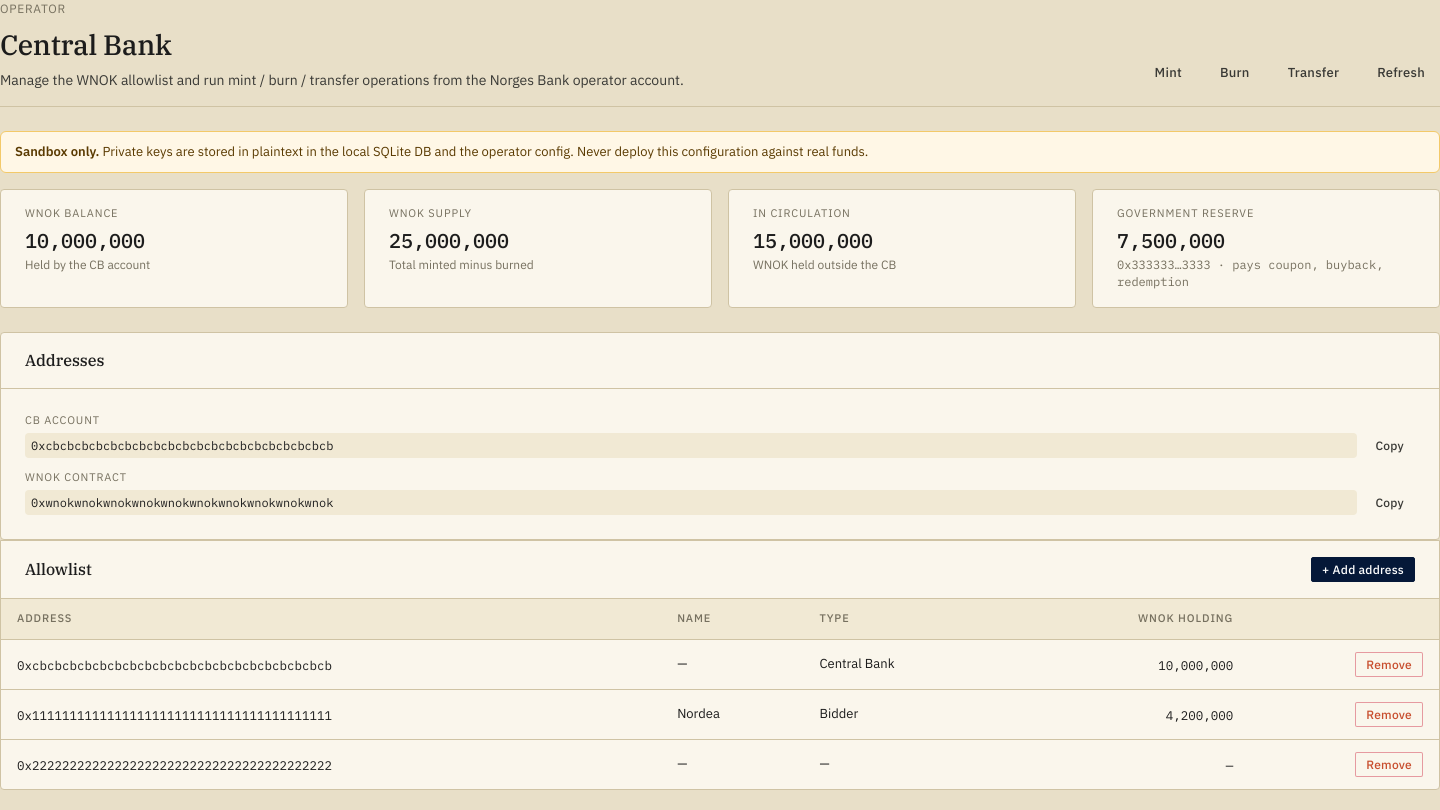
Test: CentralBankPage › opens the allowlist add modal
Click the button "+ Add address" at (1363, 570), box [1311,557,1415,582]
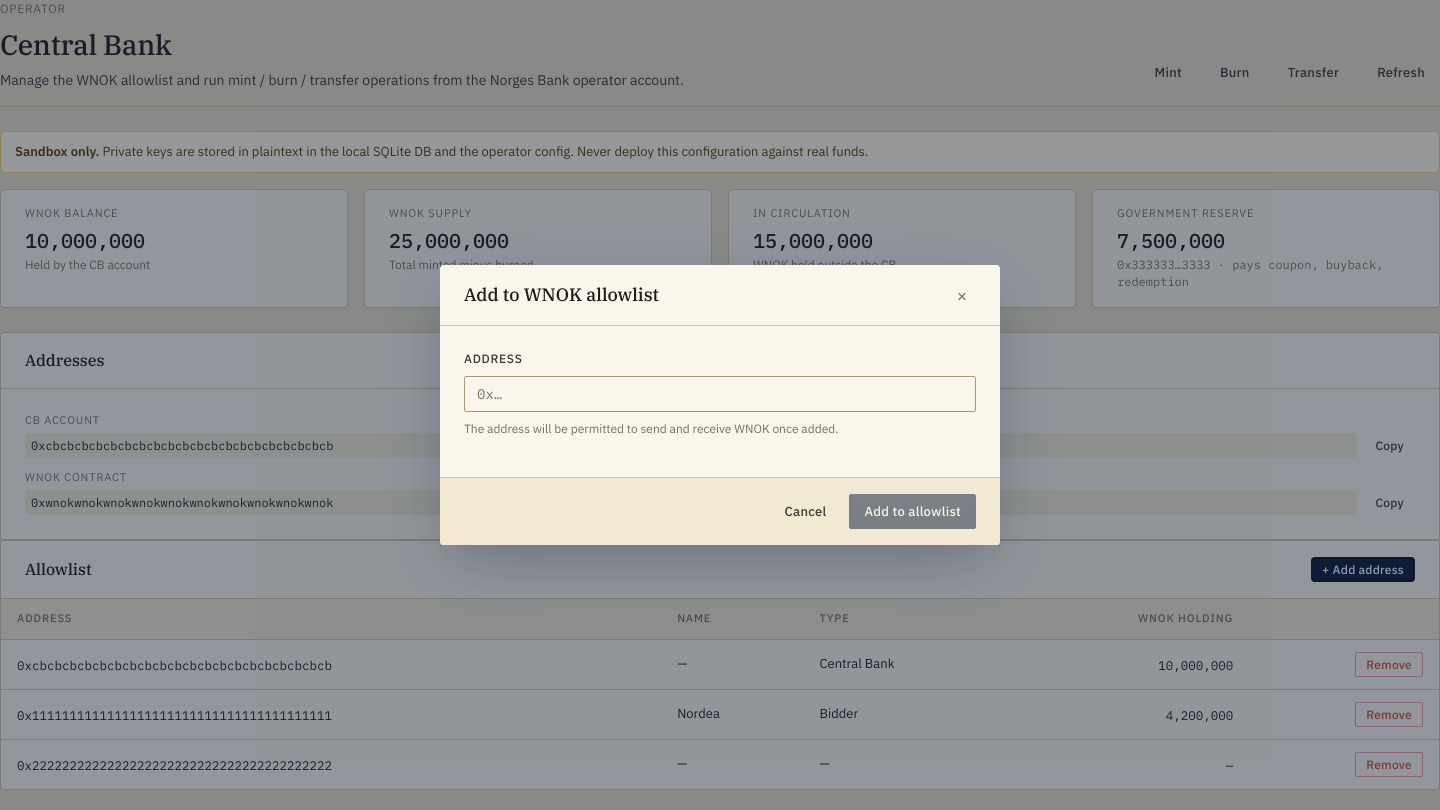
Result: the heading "Add to WNOK allowlist" is shown at [464,282,659,308]
